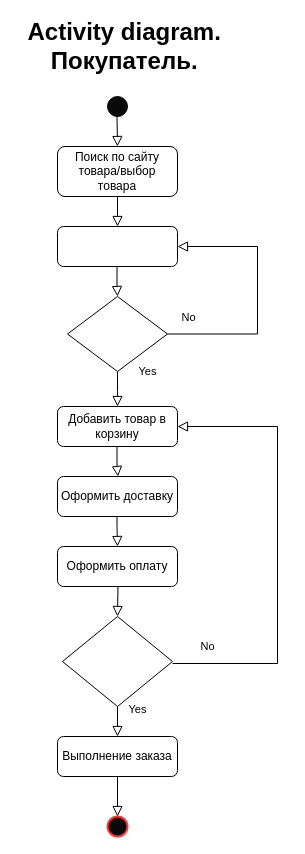
Some shapes in this 305 by 854 pixel diagram are drawn without their labels. The shapes that lost their labels are listed below. From the top down, each one's box as (x1, y1, x2, y2) in pixels, then its label:
(56, 226, 178, 266): Вход на сайт. Авторизация
(66, 296, 168, 372): Успех
(62, 616, 172, 706): Подтвердить оплату
